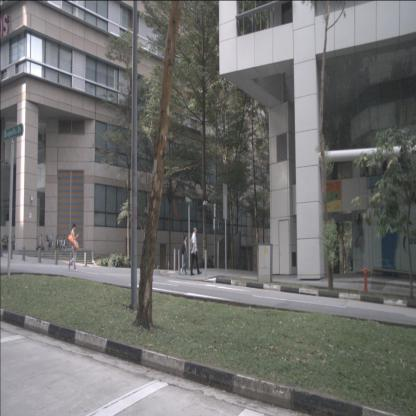human-pedestrian-adult: (190, 227, 202, 275), (68, 223, 79, 271), (180, 234, 188, 274)
